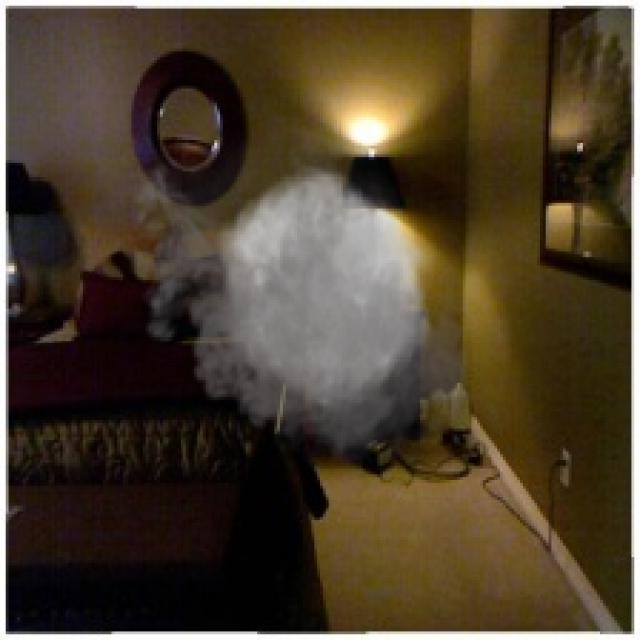smoke: (123, 103, 483, 477)
